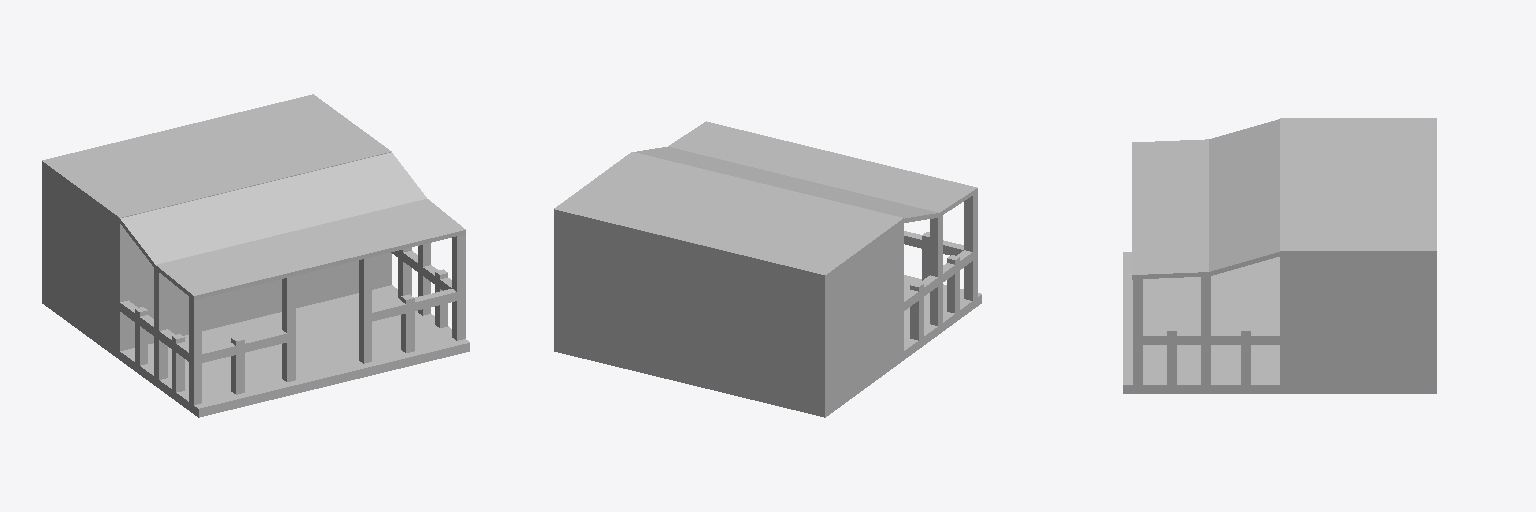
Rendered from critter_horizon_house1.obj.
3 renders of one model, left to right at view 1: azimuth 30°, elevation 25°; view 2: azimuth 150°, elevation 25°; view 3: azimuth 270°, elevation 25°, orthographic.
Visible parts, largest first — view 1: cube, room, woodenposts, woodenrail; view 2: room, cube, woodenposts; view 3: room, cube.
Part boxes in pixels (x1,y1,x2,y2): cube: (120, 152, 469, 417); room: (42, 94, 391, 359); woodenposts: (189, 257, 414, 413); woodenrail: (202, 289, 456, 362); room: (554, 152, 903, 417); cube: (635, 121, 981, 359); woodenposts: (922, 191, 977, 308); room: (1280, 118, 1436, 393); cube: (1123, 119, 1281, 393).
Bounding box in the file's own units: 4 × 2 × 4.